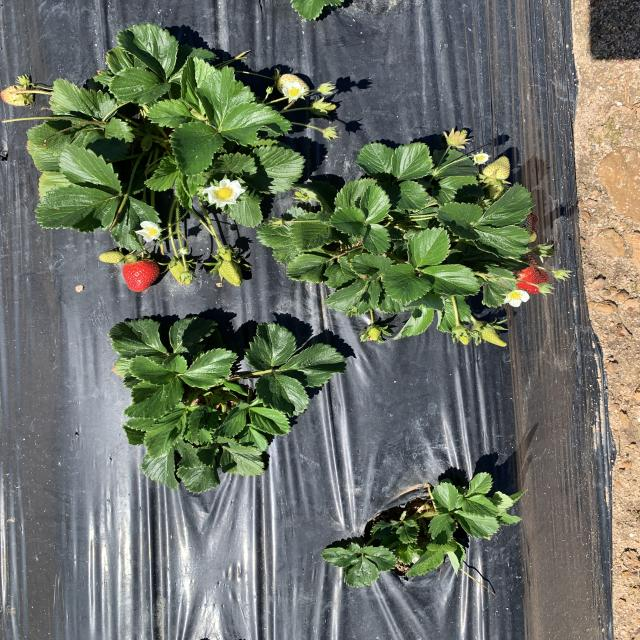unripe: (508, 255, 552, 298), (119, 260, 165, 294)
